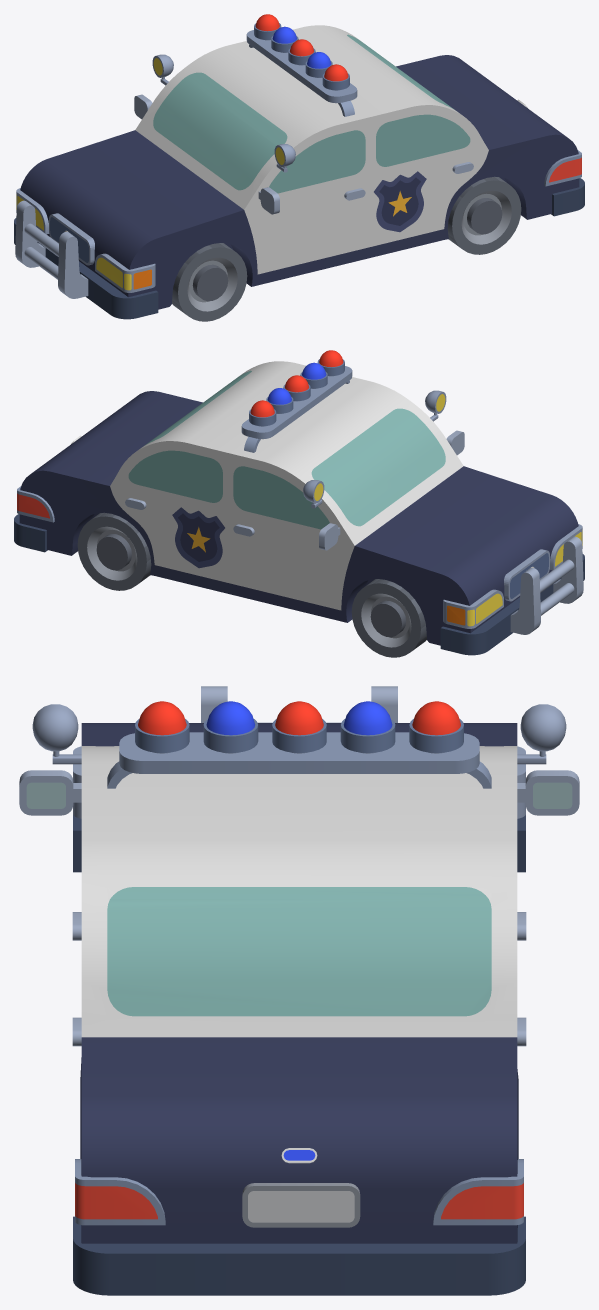
Rendered from Police Car.fbx.
3 renders of one model, top to bottom at view 1: azimuth 30°, elevation 25°; view 2: azimuth 150°, elevation 25°; view 3: azimuth 270°, elevation 25°, orthographic. The views are drawn at different scales.
Visible parts, largest first — view 1: Police Car, Police Car Wheel, Police Car Wheel.001; view 2: Police Car, Police Car Wheel, Police Car Wheel.001; view 3: Police Car.
Boxes of the visible parts, <box> form: Police Car: <box>14,14,584,319</box>; Police Car Wheel: <box>172,243,247,321</box>; Police Car Wheel.001: <box>447,176,521,254</box>; Police Car: <box>14,350,584,655</box>; Police Car Wheel: <box>351,579,426,657</box>; Police Car Wheel.001: <box>77,512,151,590</box>; Police Car: <box>19,686,579,1295</box>.
Size of the model in its own units: 1008 by 400 by 493.
